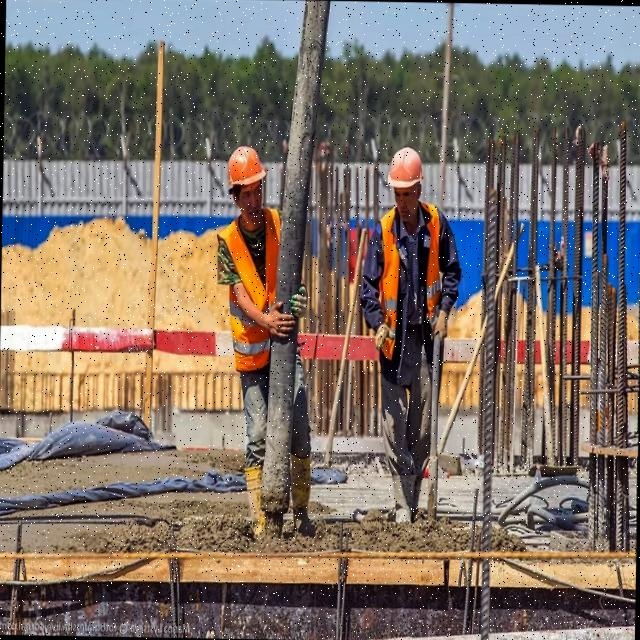Helmet: (386, 146, 426, 191), (226, 147, 267, 190)
Jacket: (378, 201, 443, 348), (230, 199, 280, 374)
